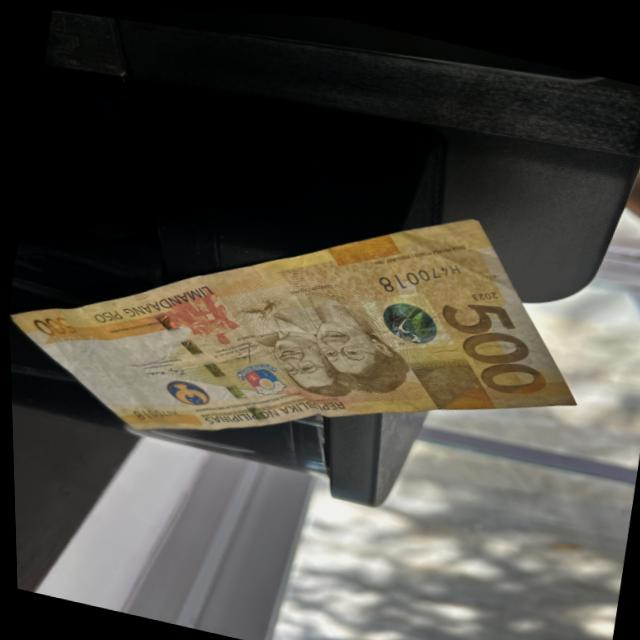concealed_value: (406, 344, 494, 412)
optically_variable_device: (360, 290, 449, 345)
